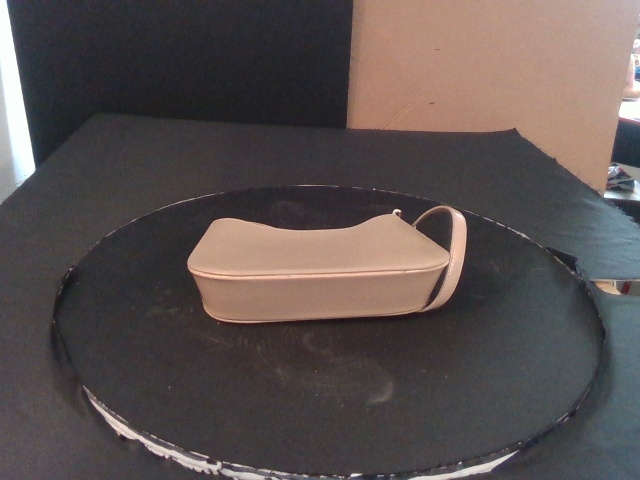bag: (187, 212, 452, 324)
